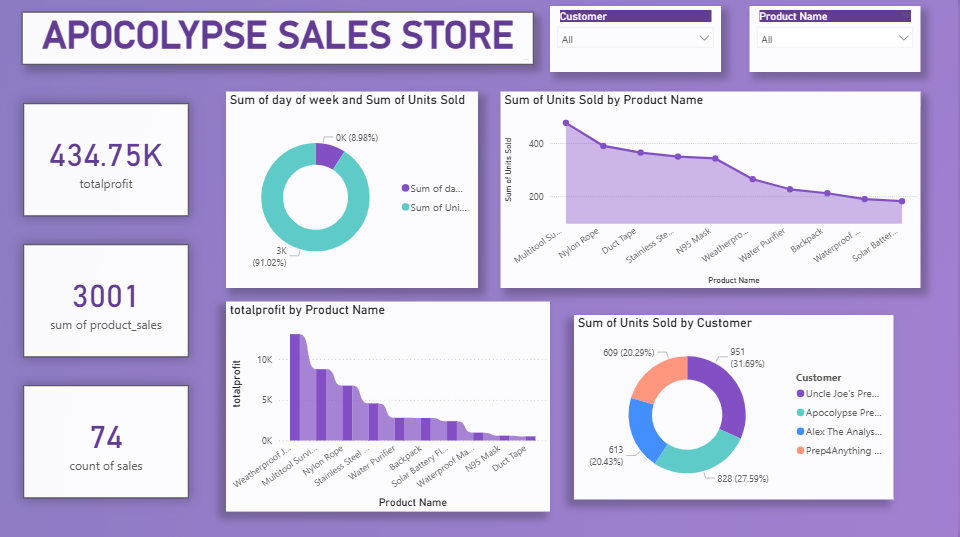

Layout of this report page (visuals, bound fields, positions):
{"tool":"powerbi","page":{"name":"Page 1","canvas":[1280,720],"ordinal":0},"visuals":[{"type":"slicer","fields":{"Values":["Apocolypse Store.Product Name"]},"box":[1002,12,228,88],"z":0},{"type":"card","fields":{"Values":["Apocolypse Sales.sum of product_sales"]},"box":[34,330,220,150],"z":1000},{"type":"card","fields":{"Values":["Apocolypse Sales.totalprofit"]},"box":[34,142,220,150],"z":2000},{"type":"donutChart","fields":{"Y":["Apocolypse Sales.day of week","Apocolypse Sales.Units Sold"]},"box":[304,126,336,262],"z":3000},{"type":"card","fields":{"Values":["Apocolypse Sales.count of sales"]},"box":[34,518,220,150],"z":4000},{"type":"slicer","fields":{"Values":["Apocolypse Sales.Customer"]},"box":[736,12,228,88],"z":5000},{"type":"stackedAreaChart","fields":{"Category":["Apocolypse Store.Product Name"],"Y":["Apocolypse Sales.Units Sold"]},"box":[670,126,560,262],"z":6000},{"type":"textbox","title":"APOCOLYPSE SALES STORE","box":[32,20,682,70],"z":7000},{"type":"ribbonChart","fields":{"Category":["Apocolypse Store.Product Name"],"Y":["Apocolypse Sales.totalprofit"]},"box":[304,406,432,280],"z":8000},{"type":"donutChart","fields":{"Y":["Apocolypse Sales.Units Sold"],"Category":["Apocolypse Sales.Customer"]},"box":[768,424,426,246],"z":9000}]}

Visuals, with their boxes in screenshot pixels (x1, y1, x2, y2), scaled from the page's 1280x720 canvas onto the 960x537 screenshot:
slicer - Apocolypse Store.Product Name: select_region(752, 9, 922, 75)
card - Apocolypse Sales.sum of product_sales: select_region(26, 246, 190, 358)
card - Apocolypse Sales.totalprofit: select_region(26, 106, 190, 218)
donutChart - Apocolypse Sales.day of week x Apocolypse Sales.Units Sold: select_region(228, 94, 480, 289)
card - Apocolypse Sales.count of sales: select_region(26, 386, 190, 498)
slicer - Apocolypse Sales.Customer: select_region(552, 9, 723, 75)
stackedAreaChart - Apocolypse Store.Product Name x Apocolypse Sales.Units Sold: select_region(502, 94, 922, 289)
"APOCOLYPSE SALES STORE" textbox: select_region(24, 15, 536, 67)
ribbonChart - Apocolypse Store.Product Name x Apocolypse Sales.totalprofit: select_region(228, 303, 552, 512)
donutChart - Apocolypse Sales.Units Sold x Apocolypse Sales.Customer: select_region(576, 316, 896, 500)
